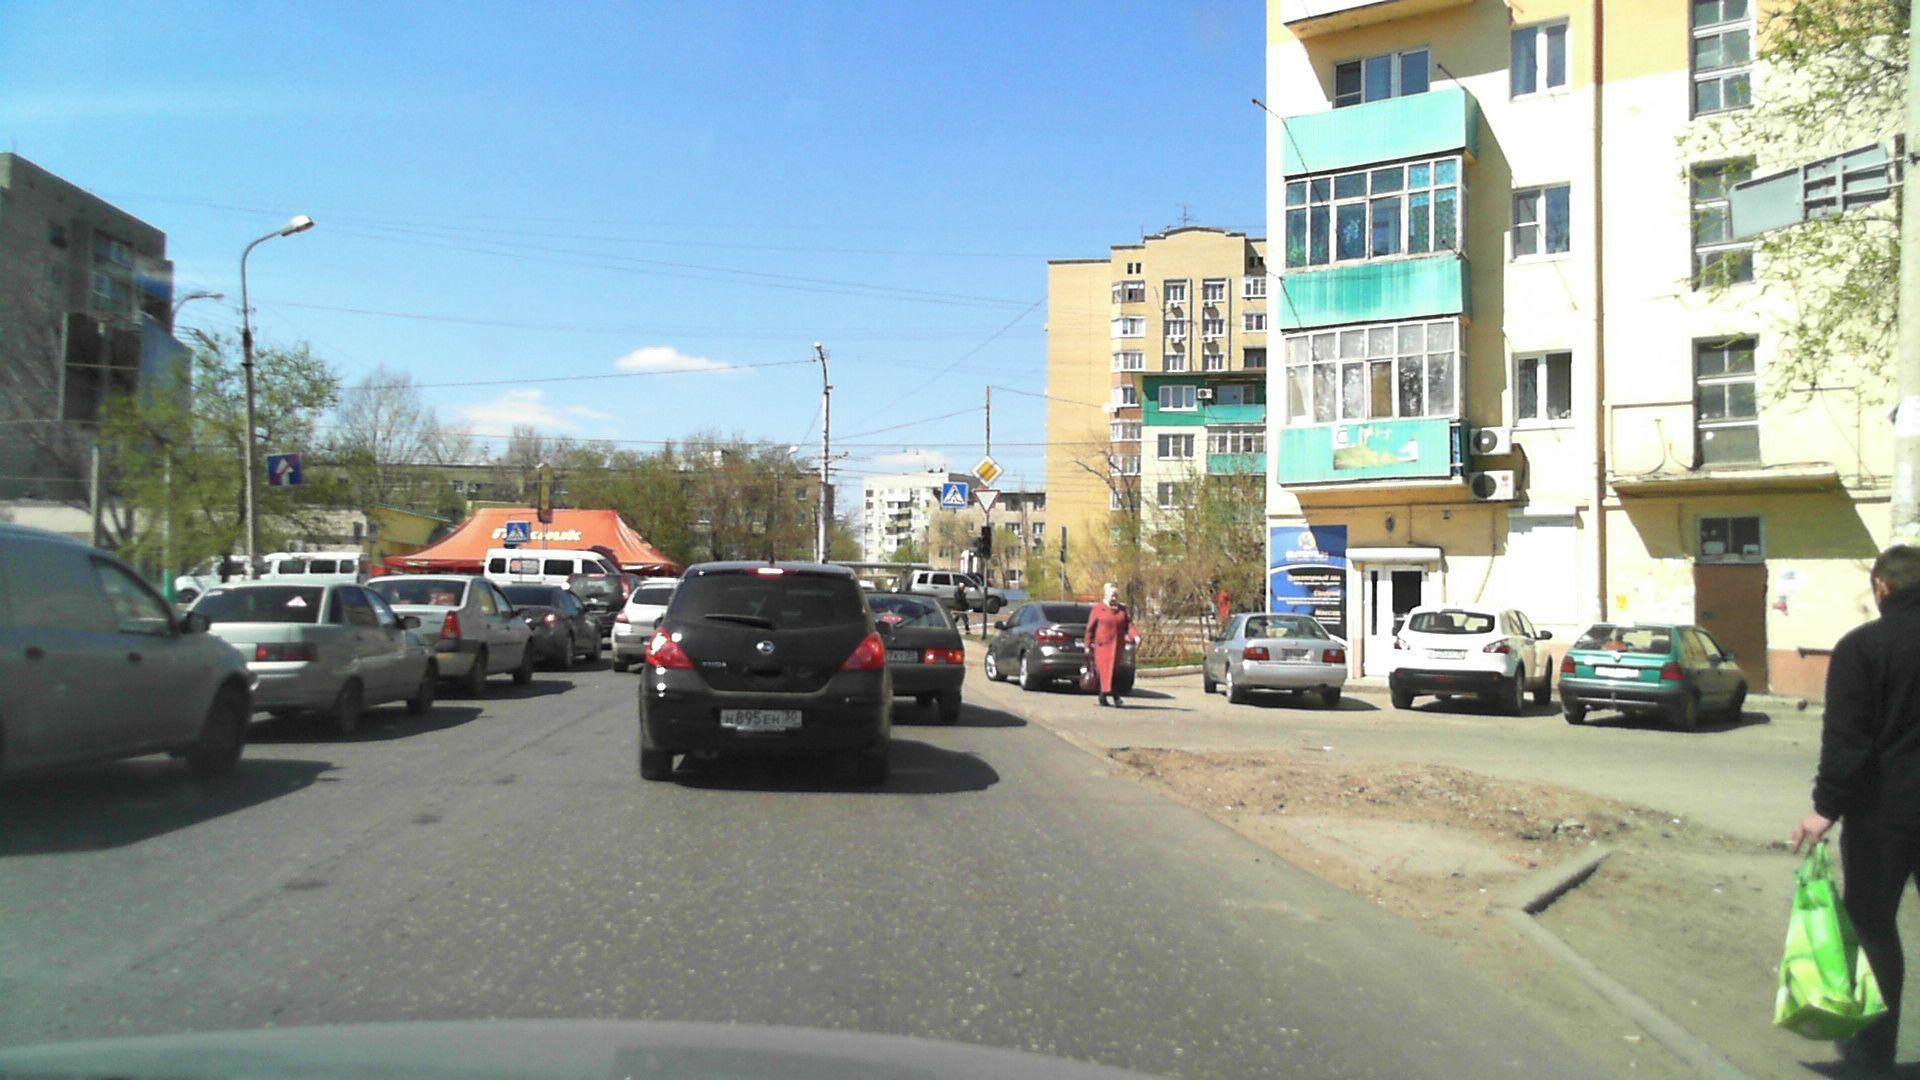2_2: (971, 455, 1004, 488)
2_4: (975, 489, 1000, 514)
5_19_1: (940, 481, 967, 508)
5_19_2: (506, 520, 530, 545)
5_6: (266, 454, 302, 487)
